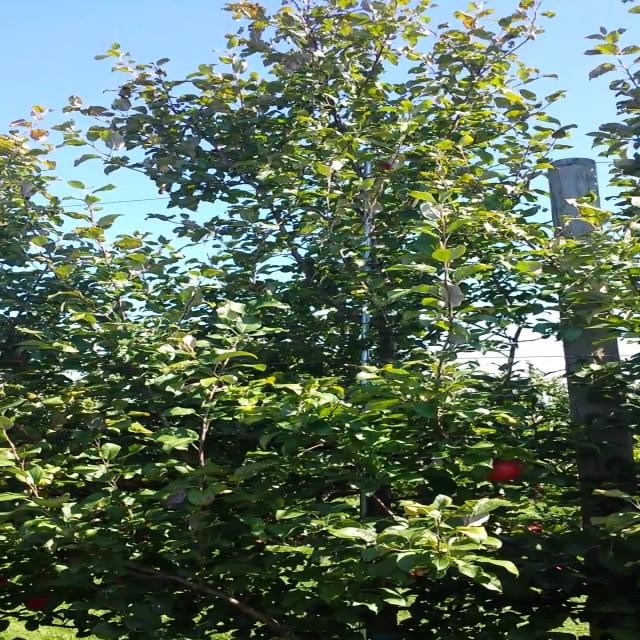apple: (484, 459, 522, 482), (22, 594, 54, 612), (379, 162, 392, 170), (113, 576, 123, 584)
